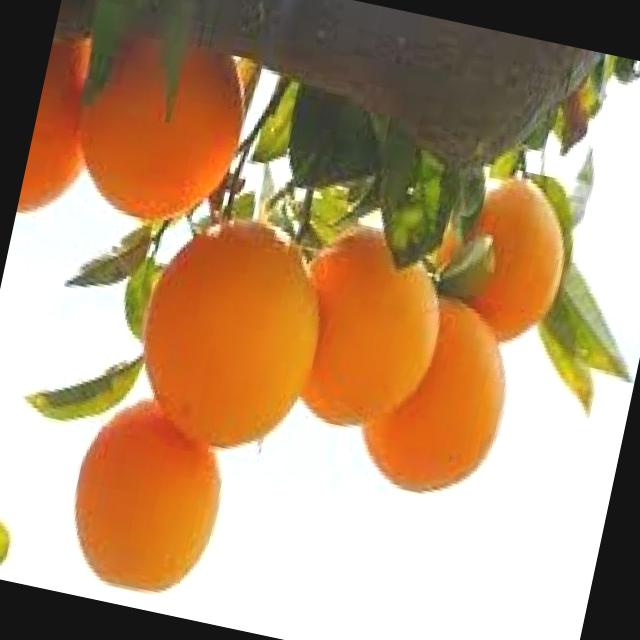Orange: (122, 200, 338, 462), (56, 19, 257, 234), (274, 211, 456, 441), (55, 384, 238, 602), (348, 281, 523, 506), (427, 162, 579, 348), (18, 20, 112, 226)
